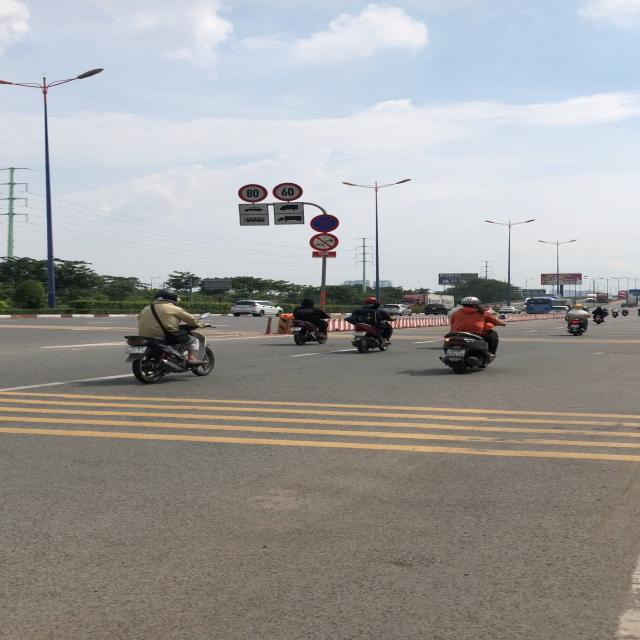Bien bao cam dung xe va do xe: (310, 214, 340, 232)
Bien bao toc do toi da cho phep: (237, 183, 268, 203), (272, 183, 305, 201)
